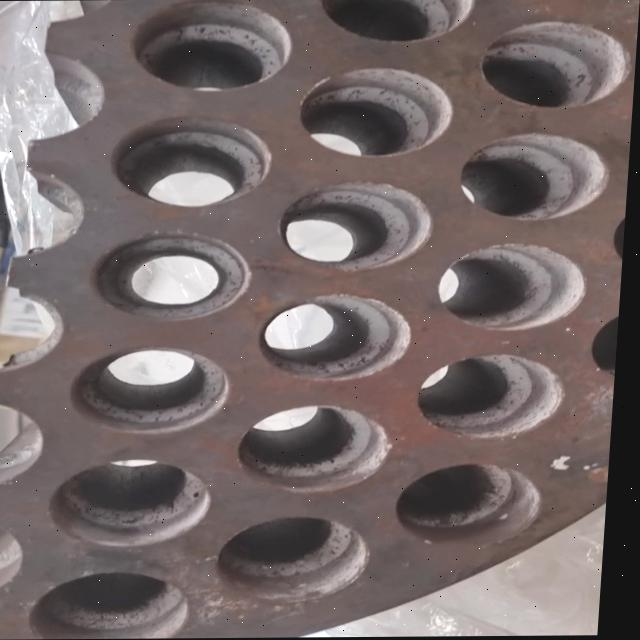Hole: (129, 0, 296, 91), (110, 117, 277, 208), (91, 232, 258, 321), (278, 181, 439, 272), (54, 460, 220, 548), (298, 67, 458, 158), (73, 347, 238, 435), (239, 404, 400, 493), (260, 293, 419, 382), (437, 243, 594, 332), (478, 20, 635, 109), (459, 132, 615, 221), (222, 516, 380, 603), (418, 353, 572, 440), (398, 463, 551, 544), (35, 571, 200, 640), (317, 0, 475, 43), (592, 304, 624, 387), (612, 194, 630, 284)
